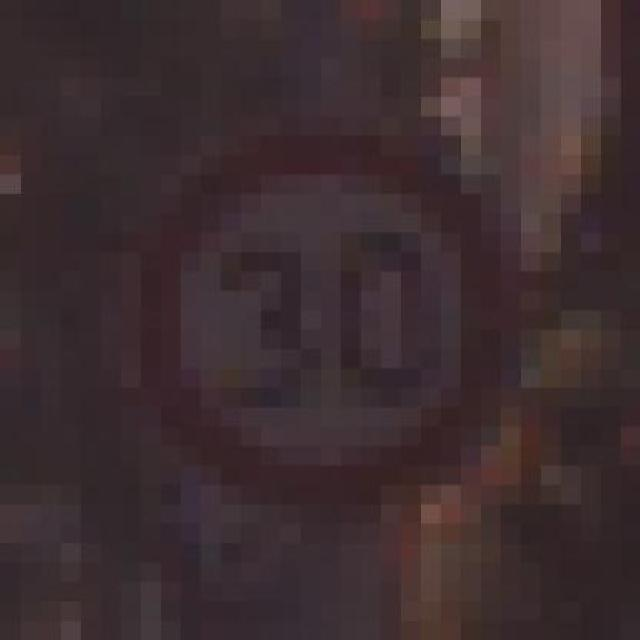Speed Limit 30 KMPh: (80, 59, 560, 543)
